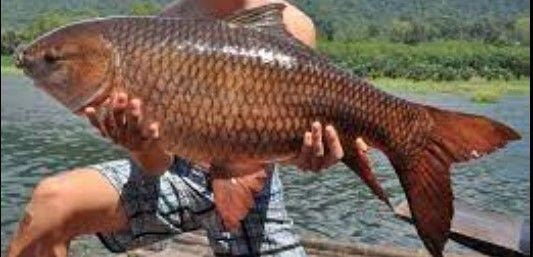Indian Carp: (19, 3, 521, 257)
